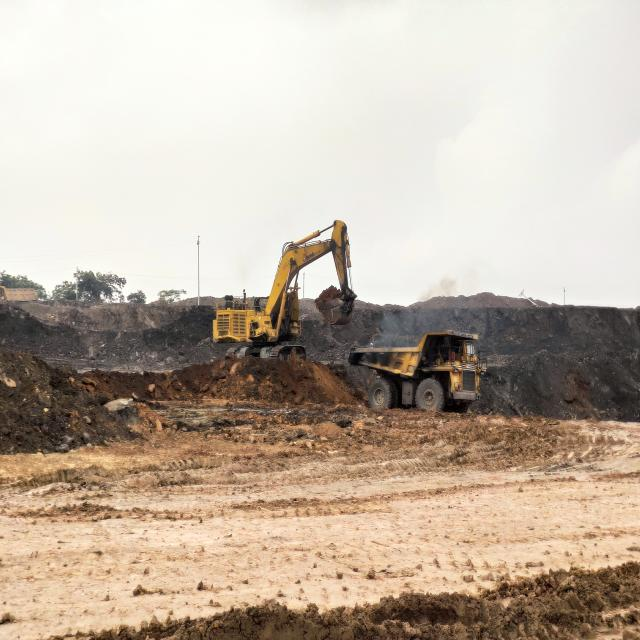dump_truck: (347, 332, 483, 414)
excavator: (212, 219, 358, 362)
